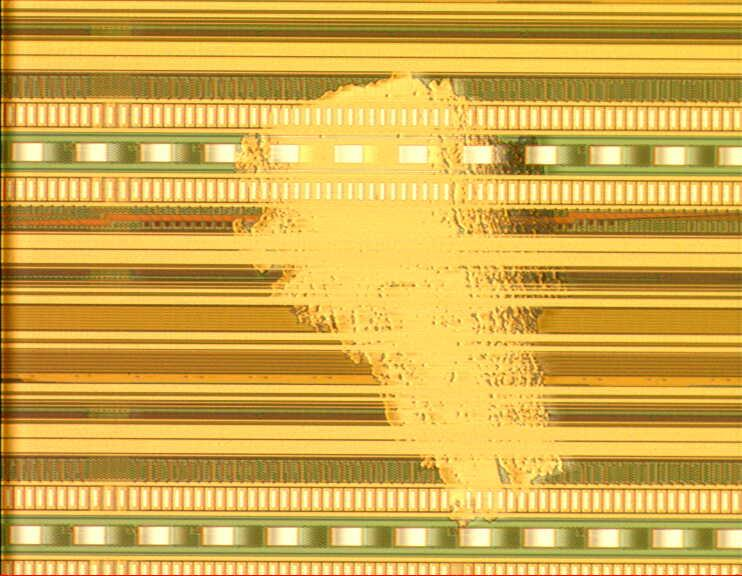BLOCK ETCH: (233, 67, 569, 530)
